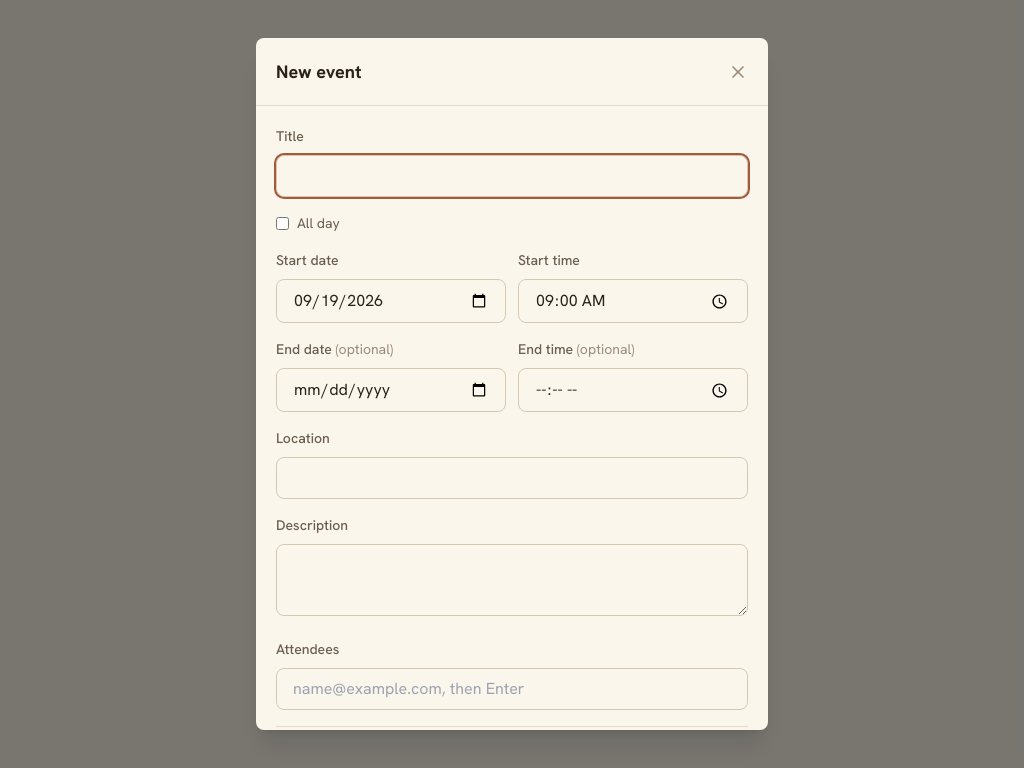
it: EventForm › adds attendee chips and rejects a malformed email
Type "mom@example.com" into the field labelled "Attendees" at (512, 689), box [276,668,748,710]
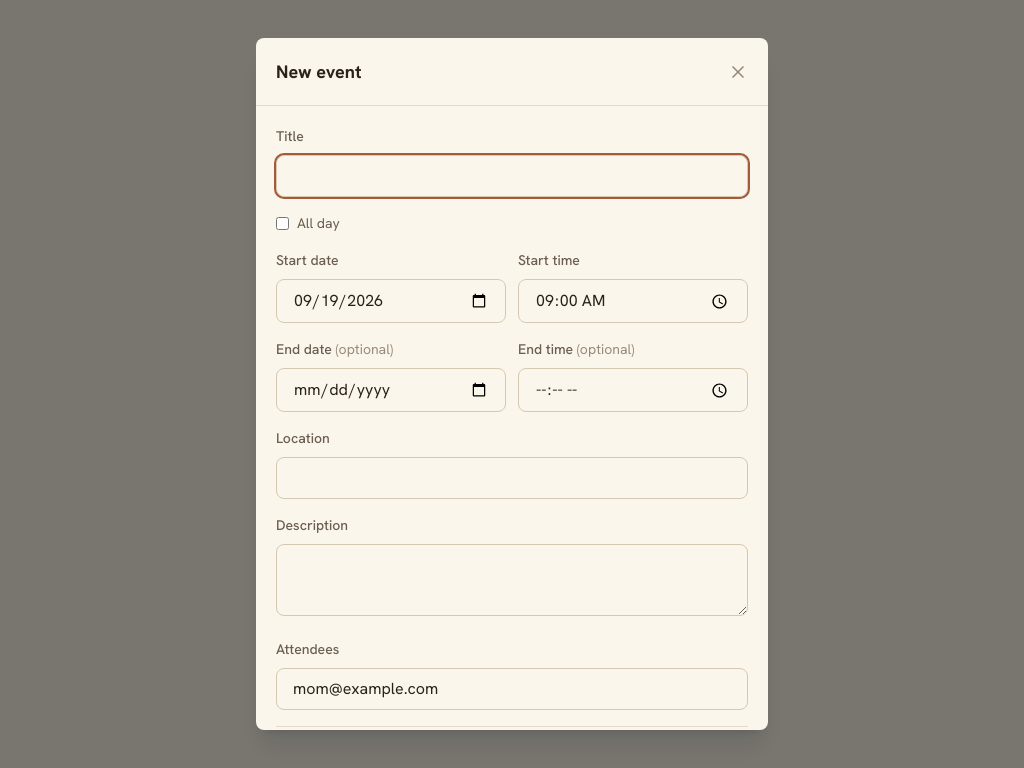
Press Enter in the field labelled "Attendees", box [276,668,748,710]
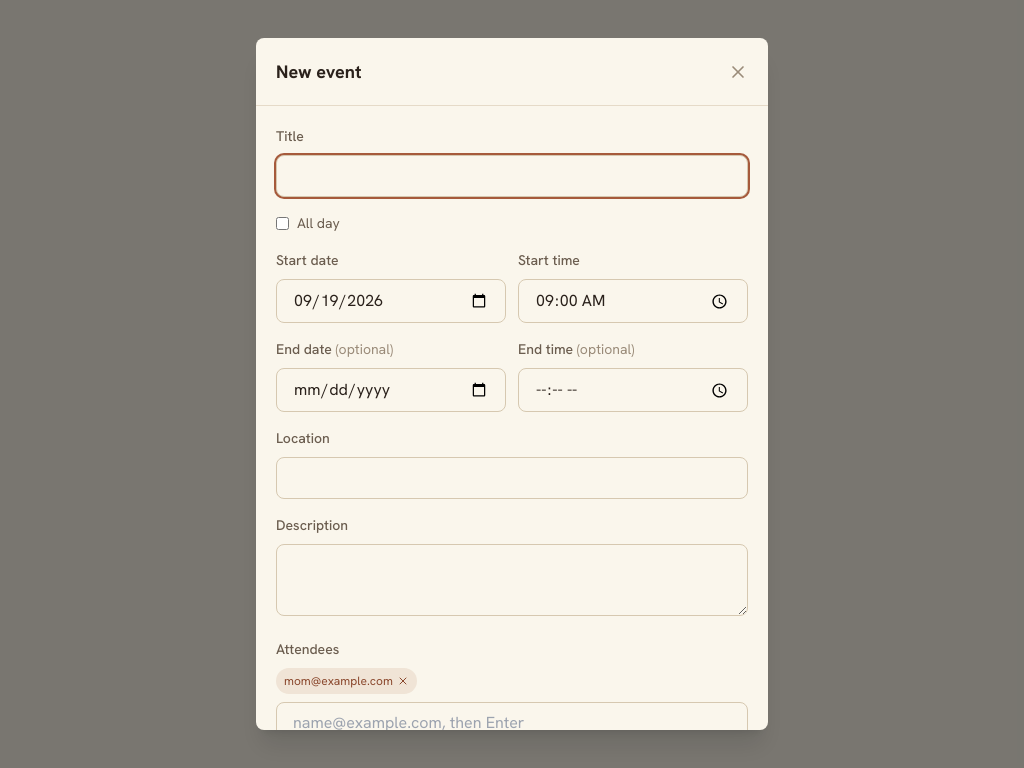
Check: the text "mom@example.com" is shown, box [276,668,417,694]
Type "not-an-email" into the field labelled "Attendees" at (512, 723), box [276,702,748,744]
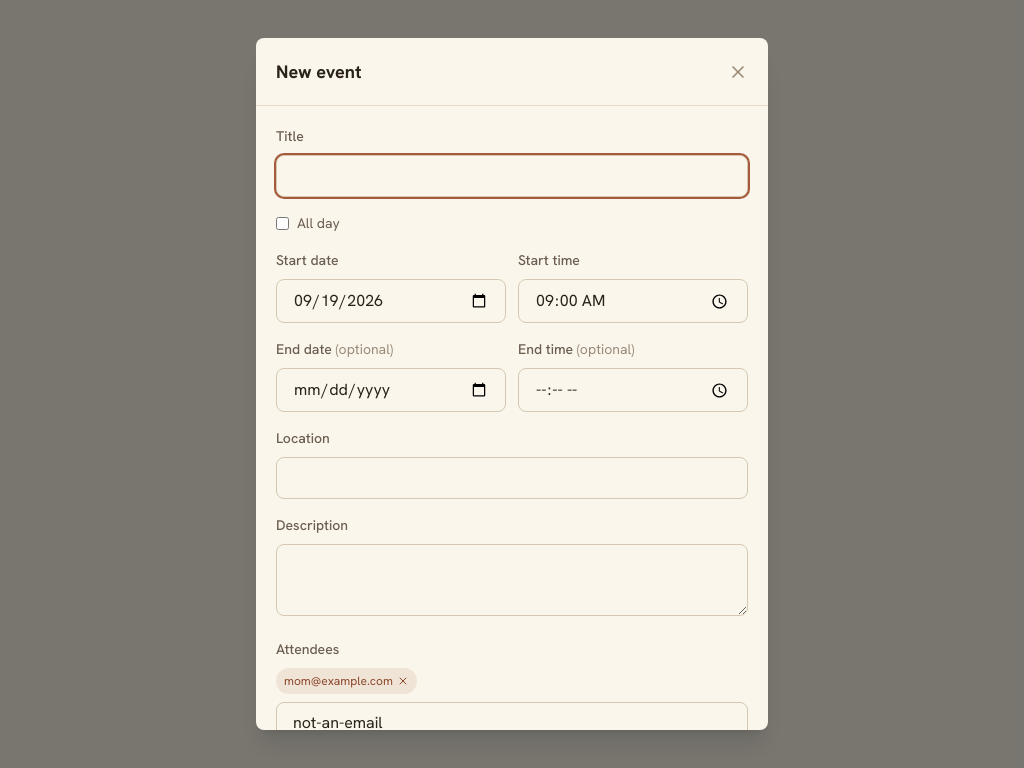
Press Enter in the field labelled "Attendees", box [276,702,748,744]
(page scrolled)
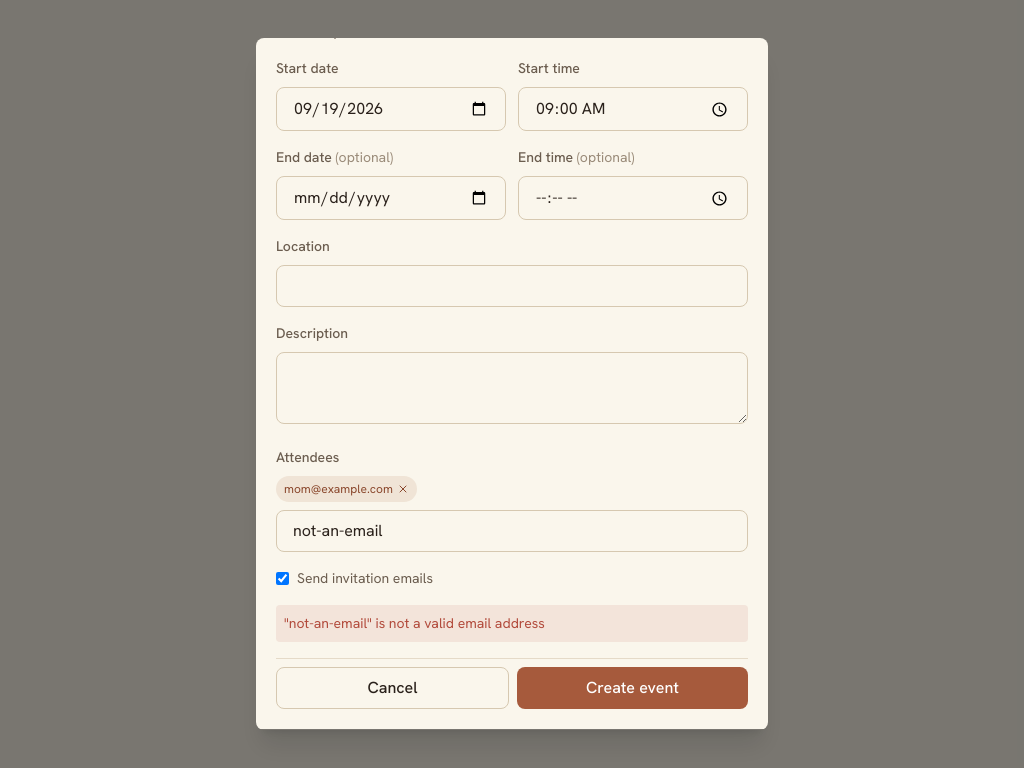
Check: the text "\"not-an-email\" is not a valid email address" is shown, box [276,605,748,642]
